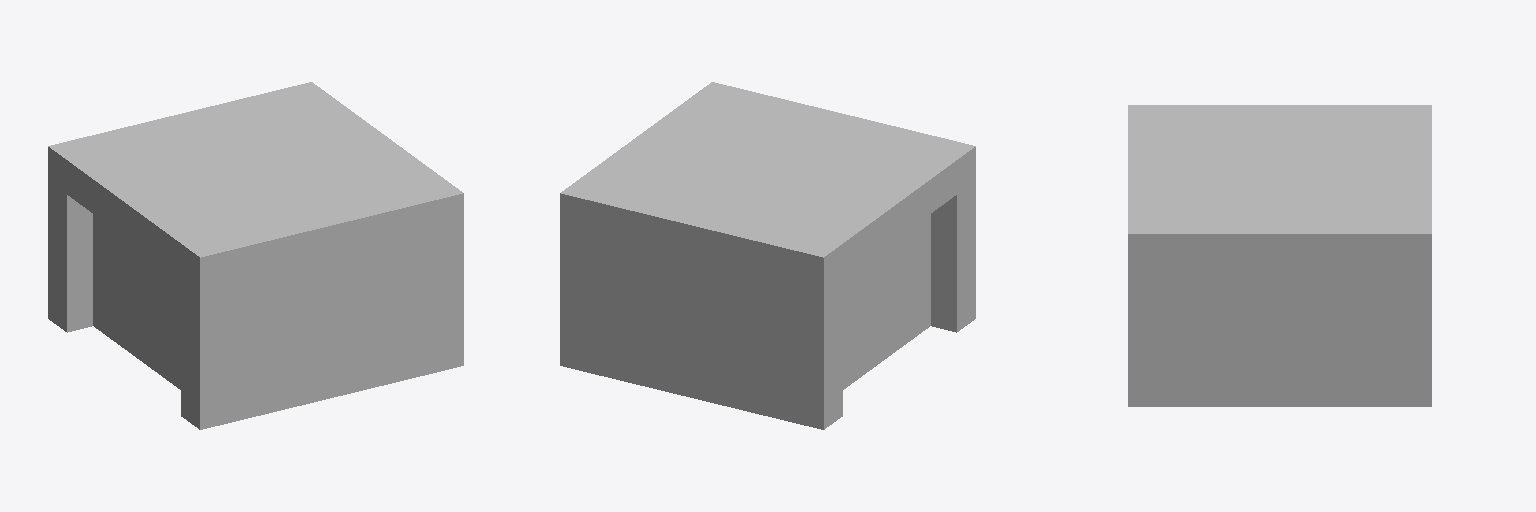
3 renders of one model, left to right at view 1: azimuth 30°, elevation 25°; view 2: azimuth 150°, elevation 25°; view 3: azimuth 270°, elevation 25°, orthographic.
Parts seen in each view (by area): view 1: G-__555969_G-__555969_Brick, G-__555969_G-__555969_Glass; view 2: G-__555969_G-__555969_Brick, G-__555969_G-__555969_Glass; view 3: G-__555969_G-__555969_Brick.
Boxes of the visible parts, x1,y1,x2,y2 form: G-__555969_G-__555969_Brick: [48, 82, 463, 429]; G-__555969_G-__555969_Glass: [93, 214, 180, 389]; G-__555969_G-__555969_Brick: [560, 82, 975, 429]; G-__555969_G-__555969_Glass: [843, 214, 930, 389]; G-__555969_G-__555969_Brick: [1128, 105, 1431, 406].
Bounding box in the file's own units: 1 × 0.625 × 1.